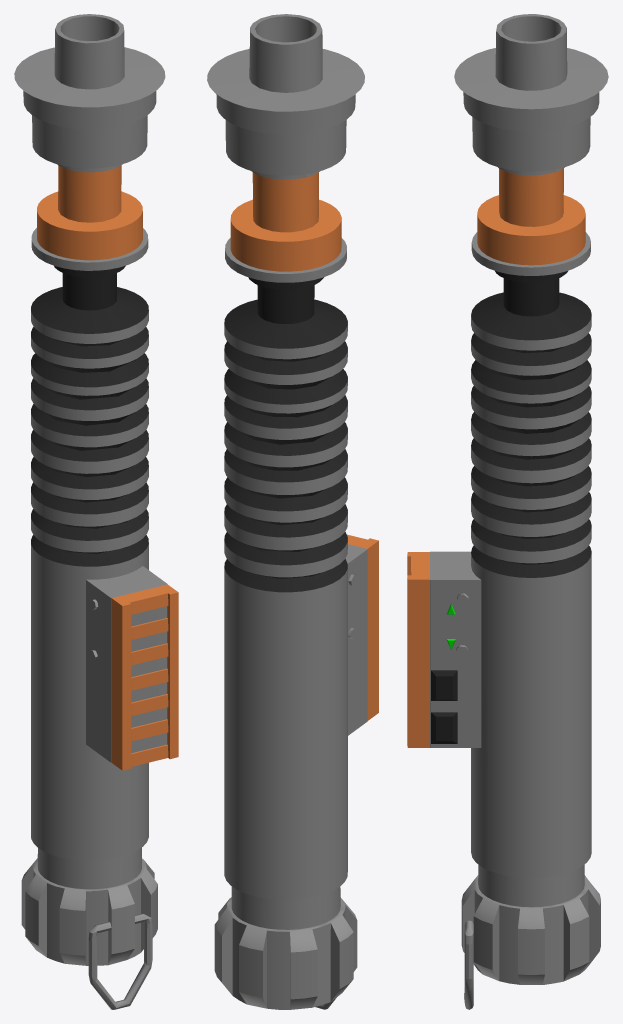
Rendered from Luke's Ligthsaber!.fbx.
The picture shows the model from 3 angles, left to right: view 1: azimuth 30°, elevation 25°; view 2: azimuth 150°, elevation 25°; view 3: azimuth 270°, elevation 25°; orthographic projection. The views are drawn at different scales.
Visible parts, largest first — view 1: Cylinder; view 2: Cylinder; view 3: Cylinder.
Part boxes in pixels (<box>): Cylinder: <box>14,14,178,1009</box>; Cylinder: <box>207,14,378,1009</box>; Cylinder: <box>407,14,608,1009</box>.
Bounding box in the file's own units: 91.88 × 641 × 120.
